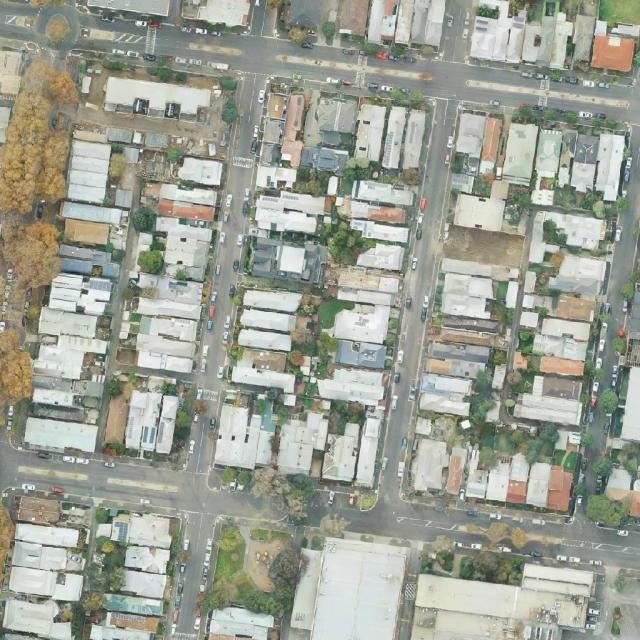building: (257, 82, 432, 181), (316, 264, 403, 408), (90, 511, 173, 640), (27, 307, 113, 424), (311, 544, 407, 640), (55, 137, 133, 250), (509, 270, 601, 364), (530, 123, 625, 213), (524, 209, 615, 299), (250, 189, 331, 284), (231, 287, 303, 393), (130, 273, 205, 374), (463, 446, 576, 512), (210, 392, 283, 490), (342, 178, 416, 273), (451, 109, 539, 187), (434, 257, 521, 326), (47, 244, 122, 319), (425, 315, 510, 381), (104, 76, 212, 122), (513, 367, 584, 426), (275, 407, 331, 480), (407, 437, 470, 500), (123, 389, 179, 455), (161, 222, 213, 282), (23, 416, 99, 454), (290, 549, 323, 631), (417, 372, 474, 418), (157, 182, 218, 223), (321, 421, 360, 483), (453, 192, 507, 233), (210, 608, 274, 640), (176, 157, 223, 187), (104, 394, 130, 446), (72, 124, 133, 145), (444, 446, 469, 496), (355, 436, 379, 488), (569, 15, 595, 63), (338, 0, 370, 38), (0, 50, 23, 101), (538, 354, 586, 378), (256, 166, 297, 190), (359, 445, 377, 486), (555, 429, 582, 453), (450, 171, 475, 193), (490, 179, 509, 201), (145, 133, 169, 149), (512, 351, 528, 369)
dryland: (441, 223, 526, 270)
greenland: (243, 460, 319, 527), (462, 422, 559, 469), (213, 525, 263, 605), (2, 218, 59, 287), (320, 218, 374, 273), (262, 545, 304, 610), (0, 330, 32, 407), (458, 551, 525, 586), (329, 157, 374, 201), (312, 301, 338, 377), (463, 371, 497, 427), (247, 547, 289, 590), (85, 554, 126, 594), (580, 191, 629, 219), (195, 583, 232, 616), (293, 166, 330, 199), (586, 494, 624, 526), (243, 588, 283, 617), (129, 205, 157, 235), (0, 504, 14, 563), (542, 220, 568, 246), (80, 591, 107, 614), (137, 251, 163, 274), (434, 549, 456, 572), (421, 556, 438, 575), (84, 600, 98, 613)
metalled_road: (369, 96, 463, 532), (192, 72, 272, 400), (0, 448, 290, 524), (352, 493, 640, 569), (438, 0, 473, 63), (308, 481, 354, 518), (189, 418, 216, 472), (248, 0, 280, 40), (205, 400, 219, 417)
